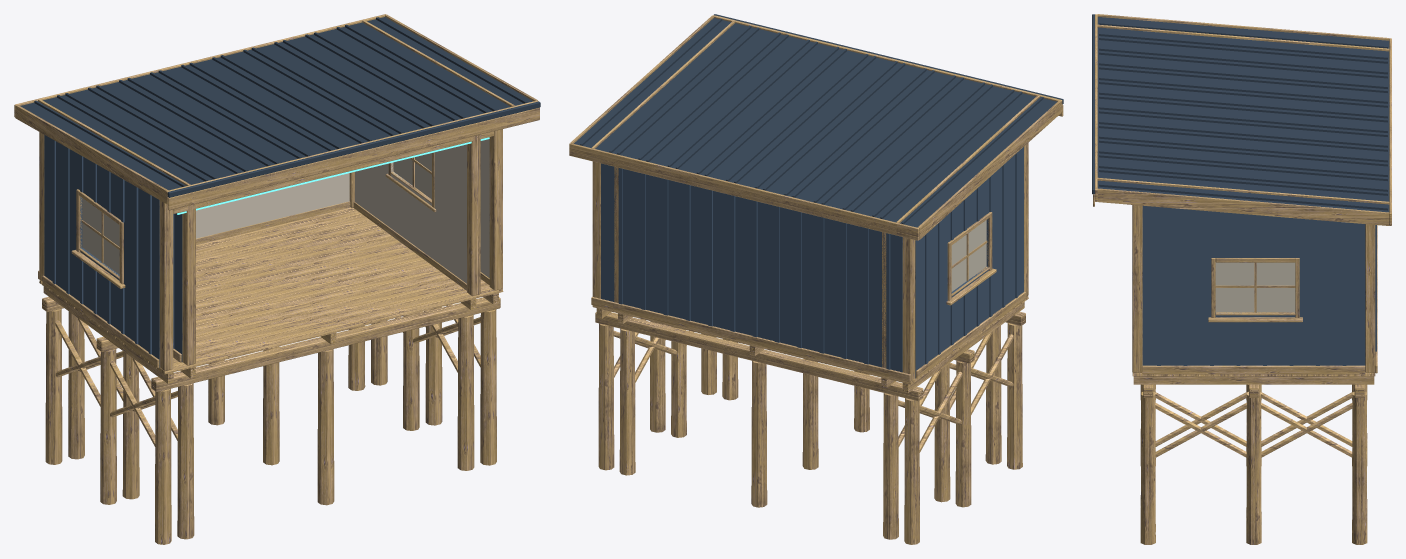
The model's file is hut-portable.glb.
The picture shows the model from 3 angles, left to right: view 1: azimuth 30°, elevation 25°; view 2: azimuth 150°, elevation 25°; view 3: azimuth 270°, elevation 25°; orthographic projection. The views are drawn at different scales.
Visible parts, largest first — view 1: shell_A.part-122, shell_B.part-124, shell_A.part-077, shell_B.part-043, shell_A.part-104, shell_B.part-153, piles_B.part-019, shell_B.part-044, shell_A.part-147, floor_B.part-000, piles_B.part-022, piles_B.part-020 (+77 smaller); view 2: shell_A.part-122, shell_B.part-124, shell_A.part-103, shell_B.part-103, shell_B.part-043, shell_A.part-126, shell_B.part-128, piles_A.part-027, piles_B.part-027, shell_B.part-044, shell_A.part-105, piles_A.part-028 (+61 smaller); view 3: shell_A.part-122, shell_B.part-124, shell_B.part-073, shell_B.part-074, shell_B.part-127, shell_B.part-100, shell_B.part-075, shell_B.part-076, piles_B.part-026, piles_B.part-022, piles_B.part-030, piles_B.part-018 (+47 smaller).
Part boxes in pixels (x1,y1,x2,y2): shell_A.part-122: (43, 23, 510, 184); shell_B.part-124: (20, 17, 533, 190); shell_A.part-077: (355, 165, 466, 283); shell_B.part-043: (44, 222, 159, 367); shell_A.part-104: (196, 173, 349, 238); shell_B.part-153: (168, 107, 539, 210); piles_B.part-019: (151, 297, 500, 391); shell_B.part-044: (44, 135, 159, 252); shell_A.part-147: (192, 113, 516, 204); floor_B.part-000: (157, 285, 503, 374); piles_B.part-022: (480, 309, 496, 465); piles_B.part-020: (155, 388, 171, 544); shell_A.part-122: (595, 23, 1035, 222); shell_B.part-124: (574, 18, 1057, 227); shell_A.part-103: (622, 169, 881, 366); shell_B.part-103: (601, 163, 902, 372); shell_B.part-043: (915, 241, 1023, 378); shell_A.part-126: (590, 148, 896, 235); shell_B.part-128: (569, 143, 919, 240); piles_A.part-027: (617, 317, 900, 395); piles_B.part-027: (595, 312, 923, 401); shell_B.part-044: (915, 147, 1023, 269); shell_A.part-105: (613, 302, 888, 377); piles_A.part-028: (883, 393, 898, 539); shell_A.part-122: (1097, 27, 1389, 201); shell_B.part-124: (1097, 17, 1389, 212); shell_B.part-073: (1142, 312, 1365, 365); shell_B.part-074: (1142, 206, 1365, 261); shell_B.part-127: (1097, 188, 1389, 225); shell_B.part-100: (1215, 262, 1295, 312); shell_B.part-075: (1142, 262, 1211, 313); shell_B.part-076: (1299, 262, 1365, 313); piles_B.part-026: (1246, 391, 1261, 544); piles_B.part-022: (1140, 391, 1155, 544); piles_B.part-030: (1352, 391, 1367, 544); piles_B.part-018: (1133, 373, 1374, 384).
Bounding box in the file's own units: 6.58 × 6.35 × 4.75.
12 materials, 4 textured.
